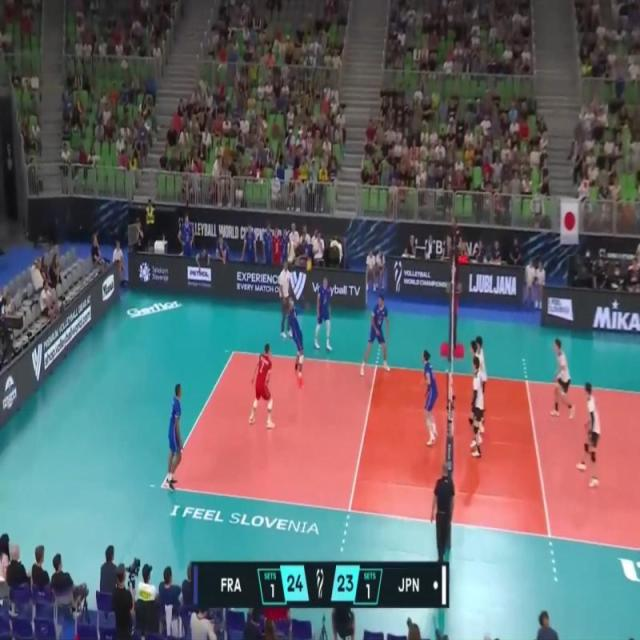volleyball: (304, 256, 314, 274)
